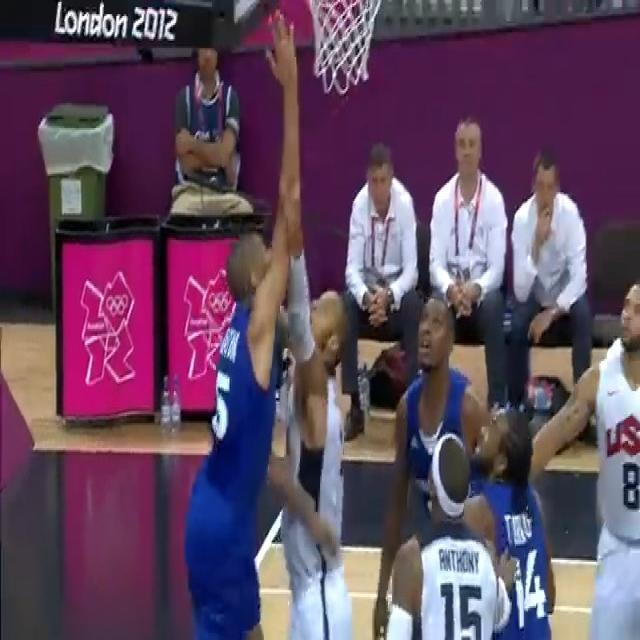hoop: (308, 0, 382, 95)
